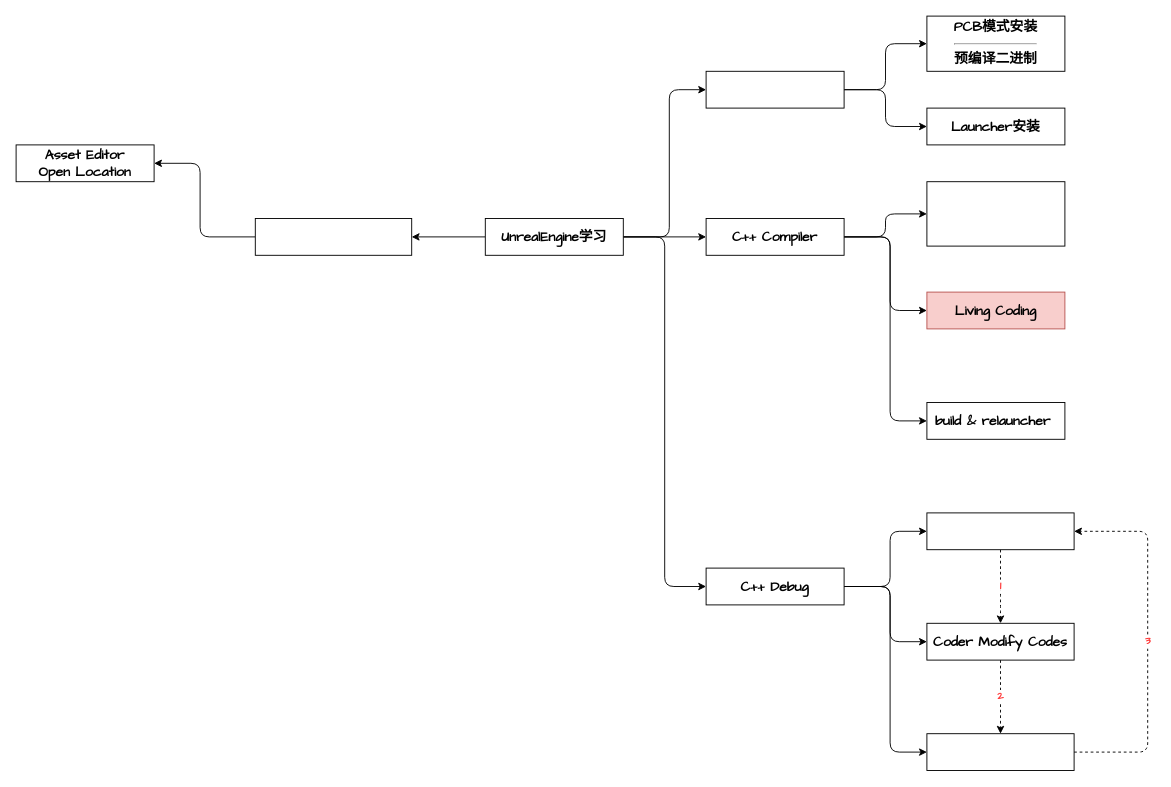
Image size: 1171x787. Some labels were removed from this diagram. Here are the shapes that lost their labels. From the top down, the box of each, then its label:
(705, 70, 844, 108): UnrealEngine安装
(926, 181, 1065, 246): Hot Reload deprecated
(254, 218, 412, 255): UnrealEngine Editor
(926, 512, 1074, 550): Debug Start Project
(926, 733, 1074, 770): UE Editor LivingCoding
